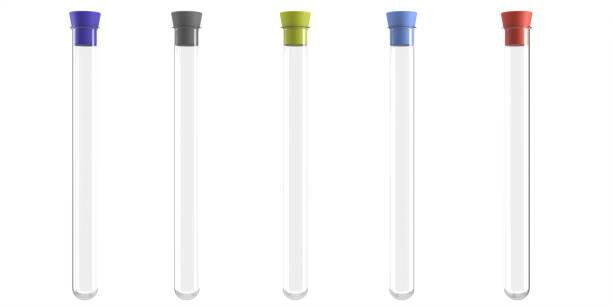Test tube: (491, 16, 563, 299), (380, 11, 436, 304), (164, 3, 208, 305), (272, 1, 312, 300), (65, 13, 102, 304)
